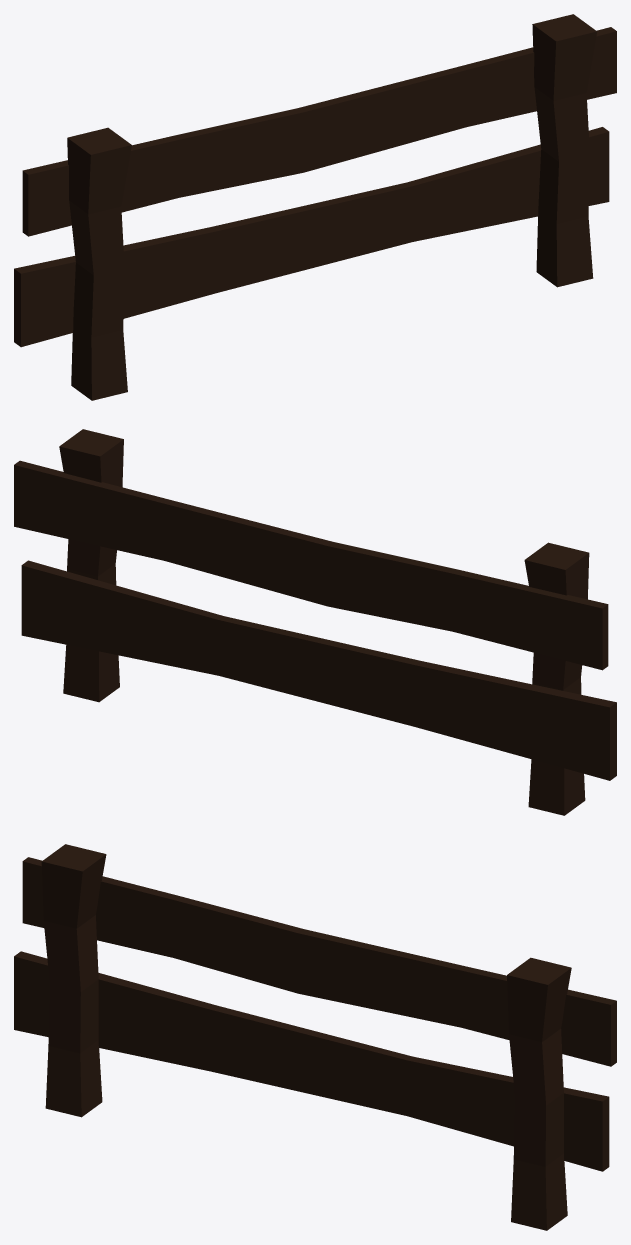
File: fence1.obj
3 renders of one model, top to bottom at view 1: azimuth 30°, elevation 25°; view 2: azimuth 150°, elevation 25°; view 3: azimuth 330°, elevation 25°, orthographic.
Visible parts, largest first — view 1: Cube.003_Cube.007; view 2: Cube.003_Cube.007; view 3: Cube.003_Cube.007.
Boxes of the visible parts, left/top/right/bottom form: Cube.003_Cube.007: left=14, top=14, right=616, bottom=400; Cube.003_Cube.007: left=14, top=429, right=616, bottom=815; Cube.003_Cube.007: left=14, top=844, right=616, bottom=1230.
Bounding box in the file's own units: 5.06 × 2.01 × 0.4129.
